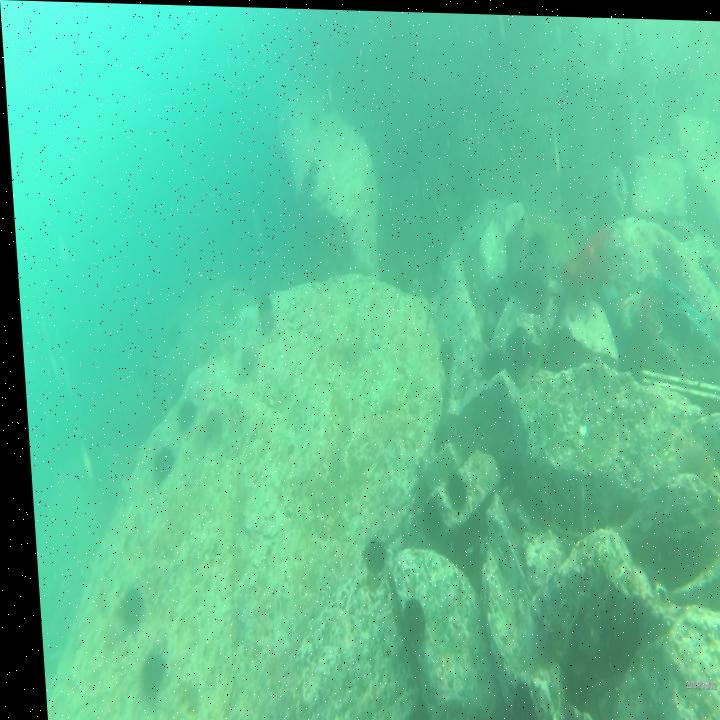echinus: (672, 432, 714, 477), (126, 653, 157, 702), (105, 581, 134, 622), (500, 683, 529, 720), (350, 531, 378, 565), (393, 597, 416, 637), (146, 442, 168, 482), (441, 469, 462, 507), (171, 395, 186, 423)
